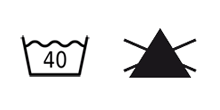do_not_bleach: (118, 24, 199, 82)
